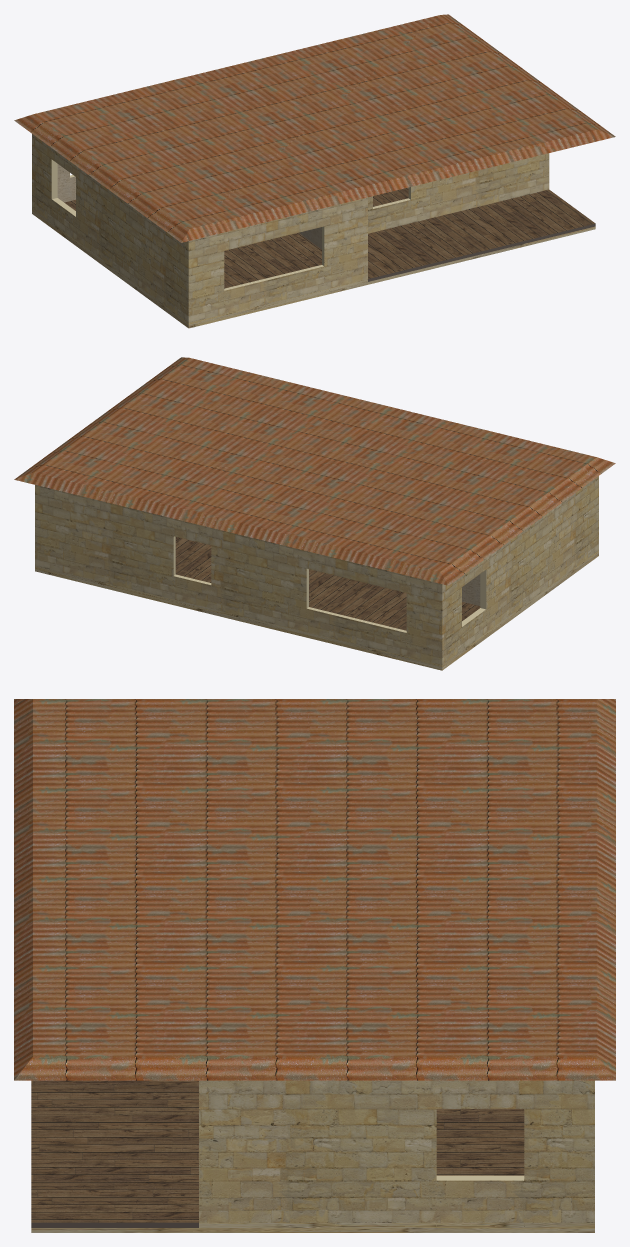
The model's file is jr_desert_shack_FBX.fbx.
The picture shows the model from 3 angles, top to bottom: view 1: azimuth 30°, elevation 25°; view 2: azimuth 150°, elevation 25°; view 3: azimuth 270°, elevation 25°; orthographic projection. The views are drawn at different scales.
Parts seen in each view (by area): view 1: Cube; view 2: Cube; view 3: Cube.
Boxes of the visible parts, <box> form: Cube: <box>14,14,615,328</box>; Cube: <box>14,357,615,670</box>; Cube: <box>14,699,615,1232</box>.
Size of the model in its own units: 1602 by 348 by 1068.
